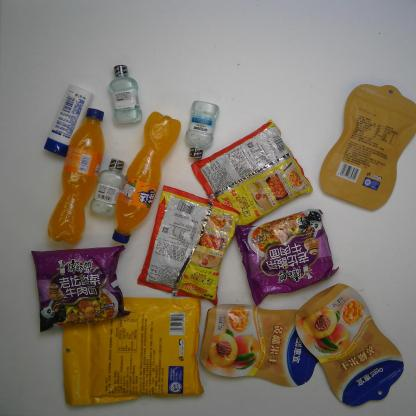Dried Fruit: (61, 296, 206, 405), (295, 283, 405, 408), (319, 83, 415, 211), (199, 303, 321, 388)
Drink: (111, 110, 183, 244), (47, 106, 106, 244)
Instant Noodles: (190, 120, 314, 230), (138, 182, 242, 306), (233, 208, 341, 306), (30, 245, 132, 334)
Personal Hygiene: (42, 83, 94, 159), (108, 63, 144, 129), (90, 157, 127, 218), (184, 100, 220, 160)
